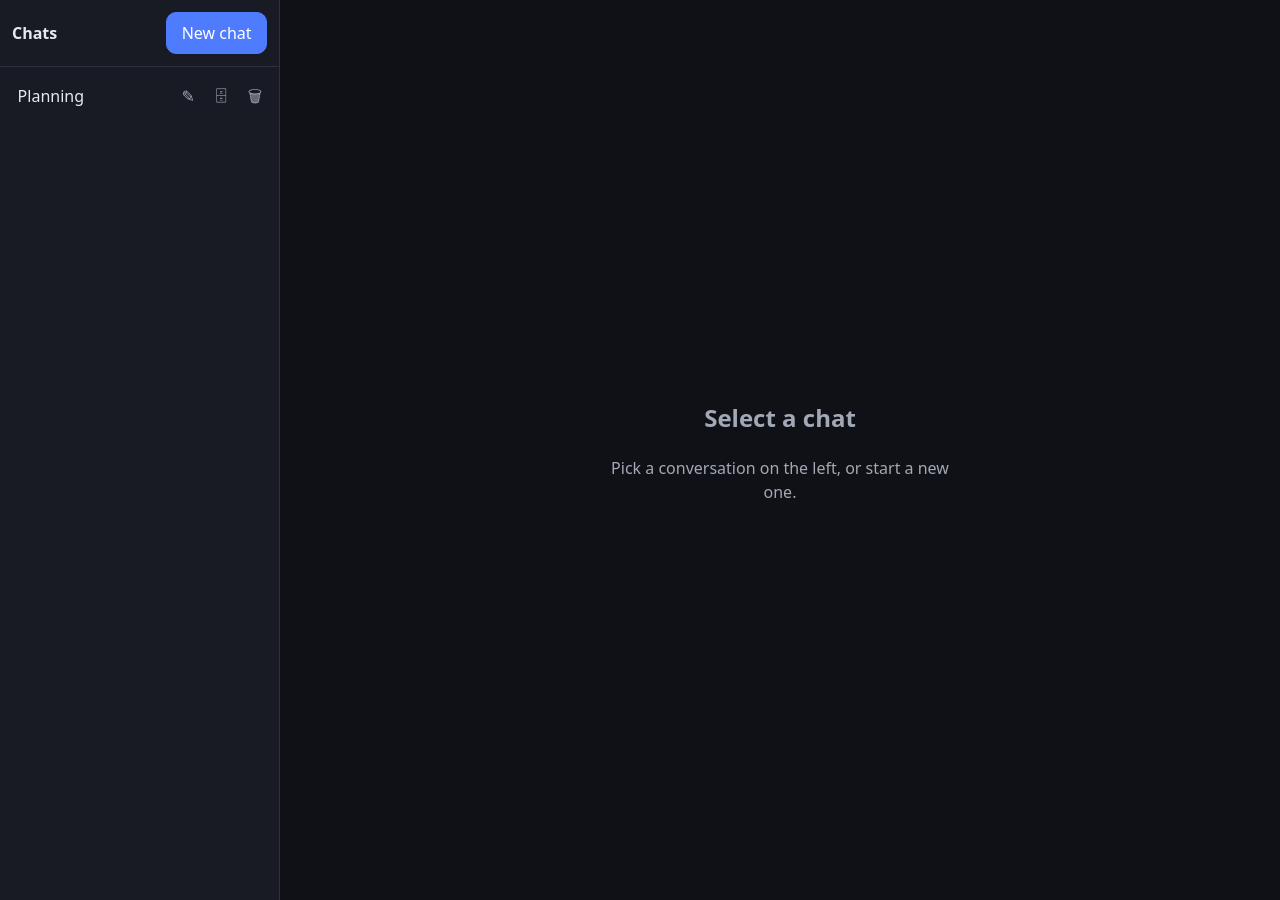
session list › archives a session
Click the button named "Archive Planning" at coordinates (221, 96), box x1=208 y1=79 x2=234 y2=113
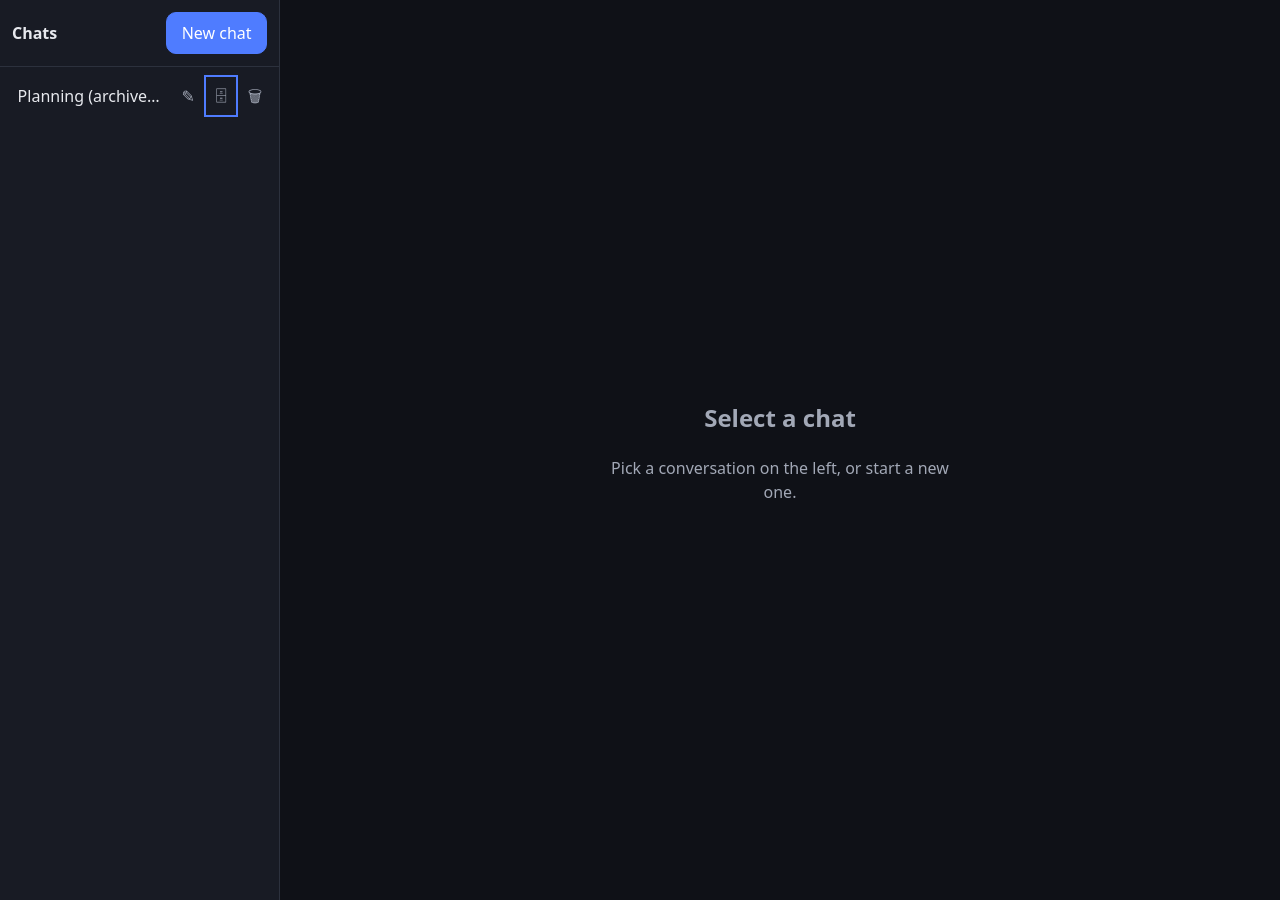
Expected: the button "Planning (archived)" is shown, x1=10 y1=77 x2=168 y2=115
